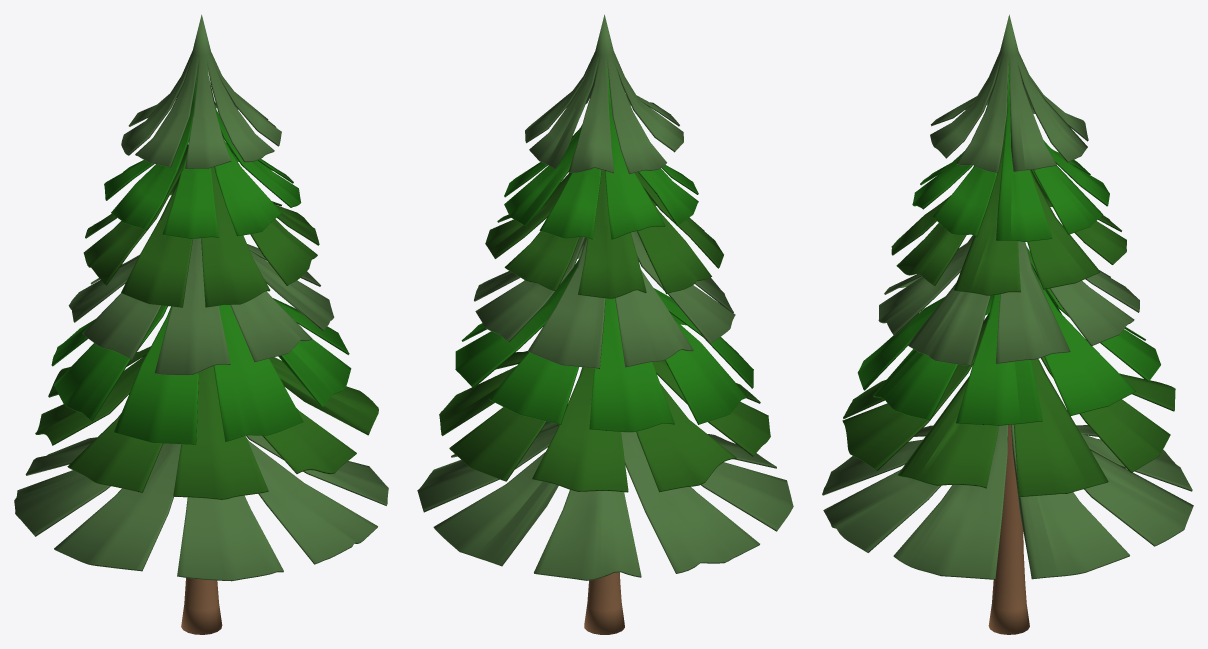
File: WidePine.fbx
The picture shows the model from 3 angles, left to right: view 1: azimuth 30°, elevation 25°; view 2: azimuth 150°, elevation 25°; view 3: azimuth 270°, elevation 25°; orthographic projection.
Visible parts, largest first — view 1: WindPine.002; view 2: WindPine.002; view 3: WindPine.002.
Part boxes in pixels (<box>): WindPine.002: <box>14,14,388,634</box>; WindPine.002: <box>417,14,793,634</box>; WindPine.002: <box>822,14,1193,634</box>.
Bounding box in the file's own units: 553 × 1004 × 553.
